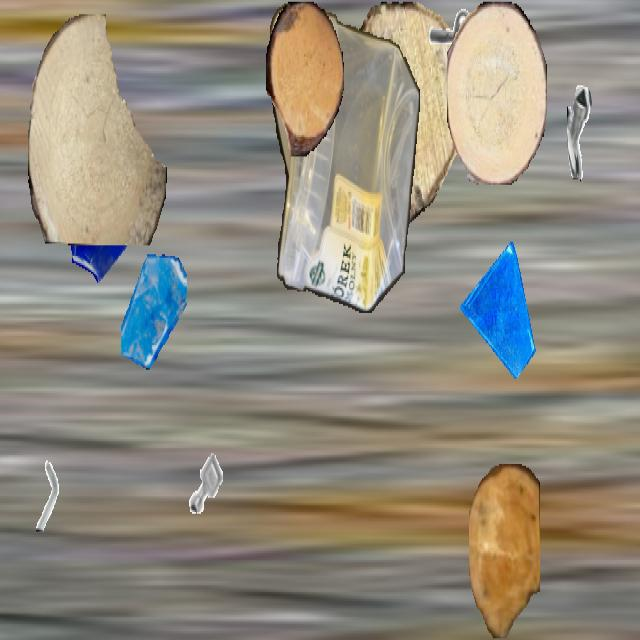glass: (60, 138, 142, 284), (460, 242, 536, 377), (121, 252, 187, 370)
metal: (414, 2, 476, 112), (567, 82, 623, 181), (181, 439, 231, 528), (26, 457, 68, 531)
plastic: (270, 2, 420, 311)
wood: (28, 14, 166, 246), (324, 2, 464, 226), (447, 2, 547, 183), (469, 464, 539, 638), (266, 1, 344, 154)
